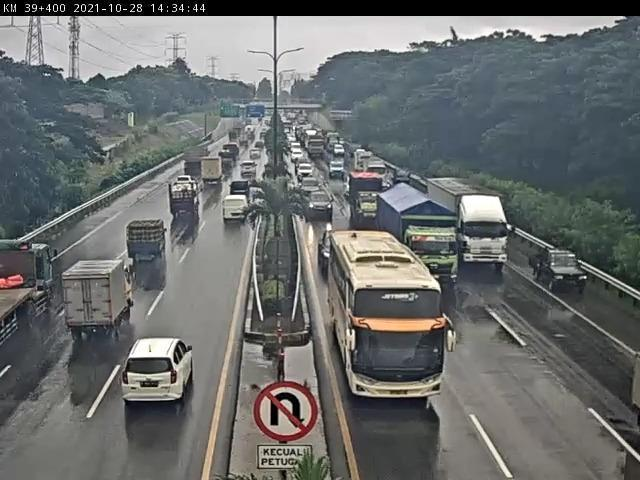bus: (337, 235, 454, 416)
car: (117, 333, 207, 414), (533, 239, 598, 307), (123, 214, 175, 277), (220, 192, 258, 230), (310, 185, 341, 225), (319, 228, 341, 274)
truck: (442, 178, 528, 269), (1, 238, 61, 355), (61, 253, 139, 338), (394, 191, 470, 272), (353, 173, 391, 231), (170, 179, 206, 229)
